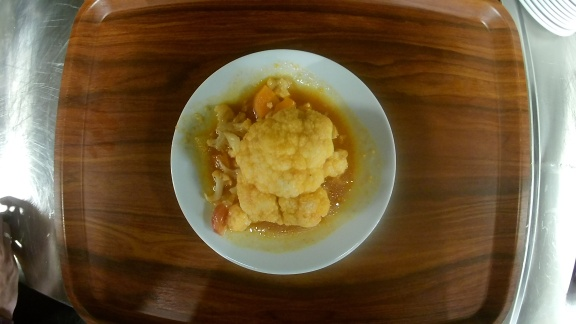karnibahar: (167, 47, 398, 275)
